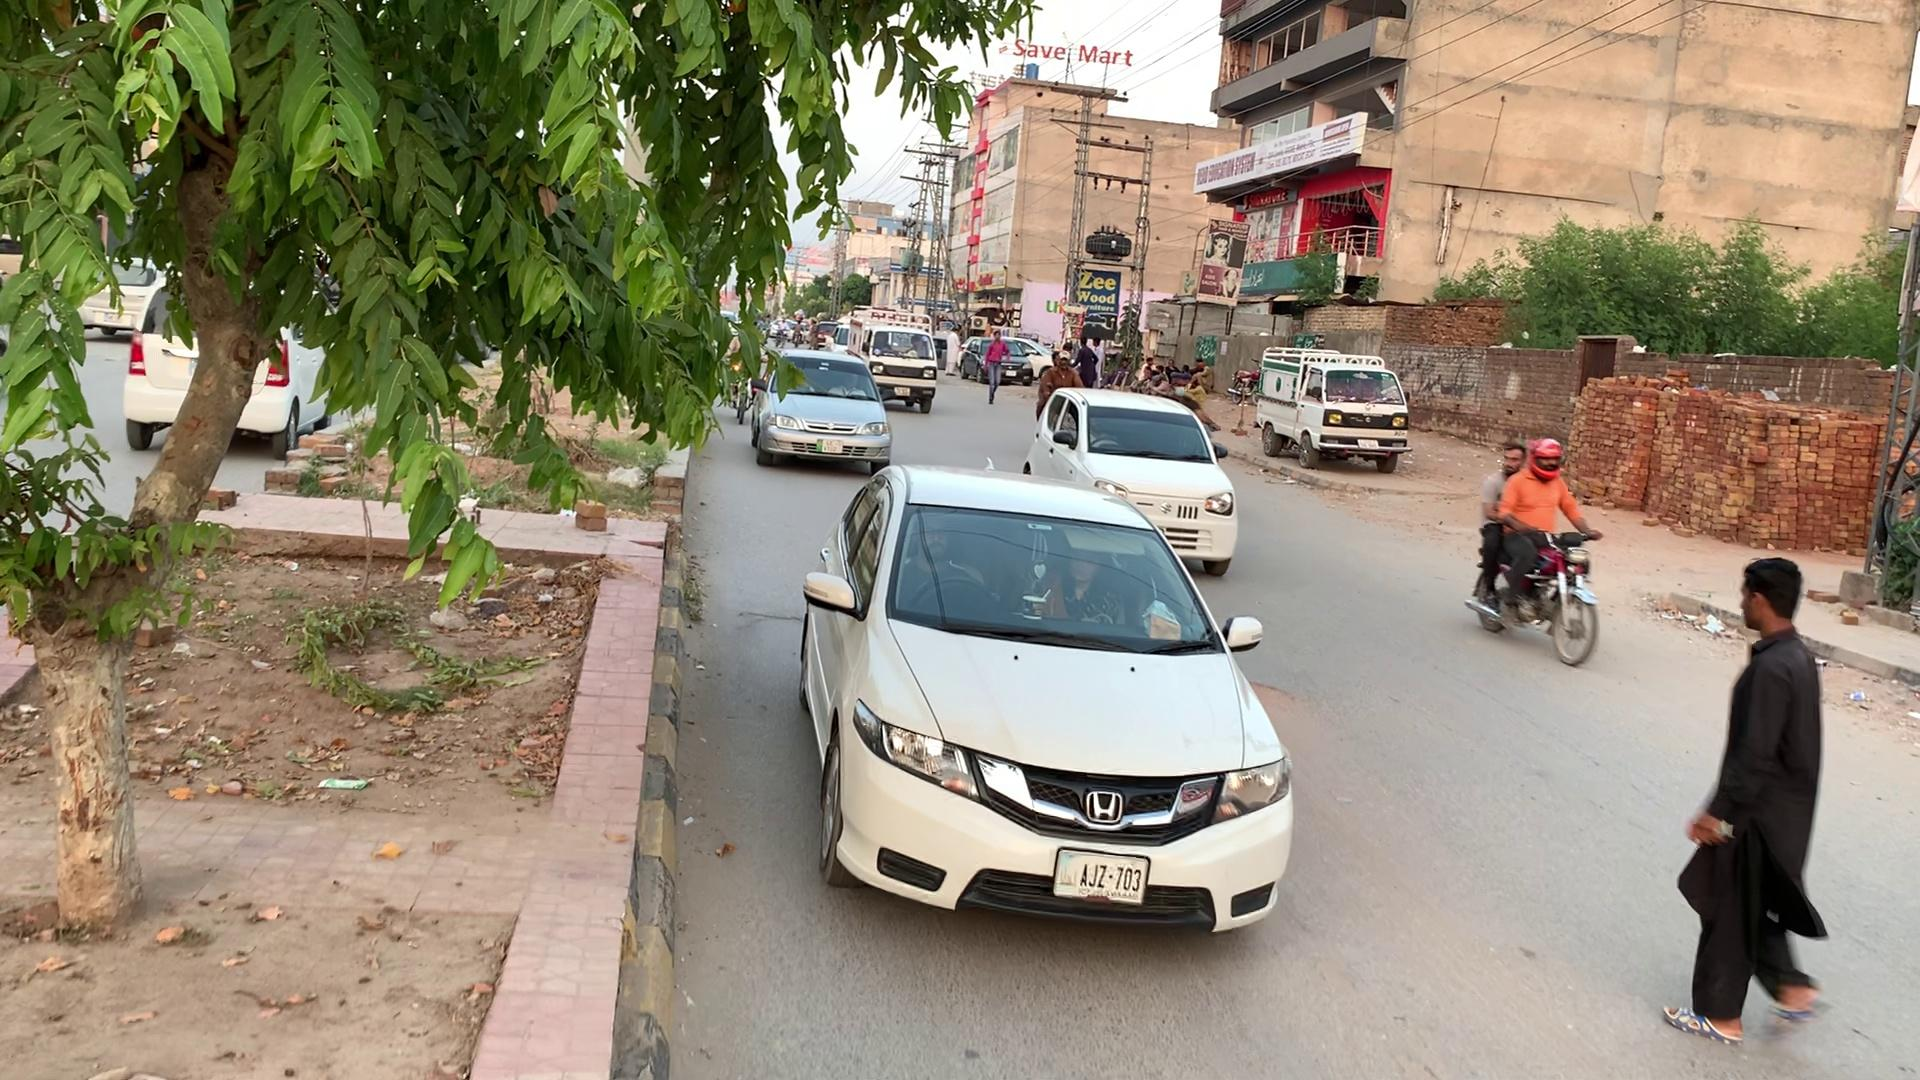windshield: (884, 493, 1234, 657)
